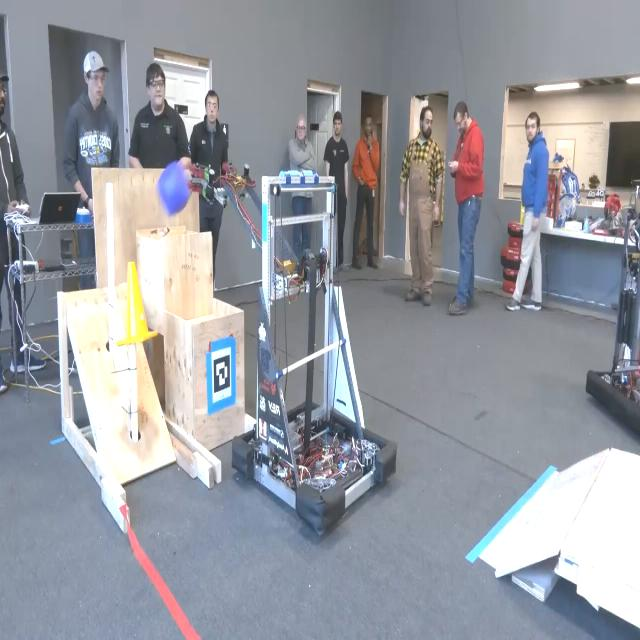frc_cone: (121, 262, 147, 346)
frc_cube: (156, 152, 190, 219)
